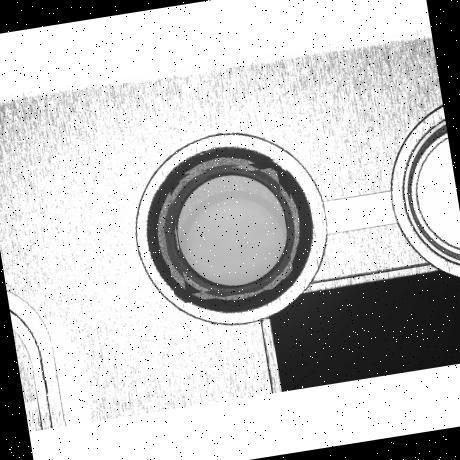Hole: (135, 136, 325, 326)
Hole2: (148, 148, 310, 310)
Hole3: (156, 157, 304, 305)
Hole4: (167, 167, 294, 294)
